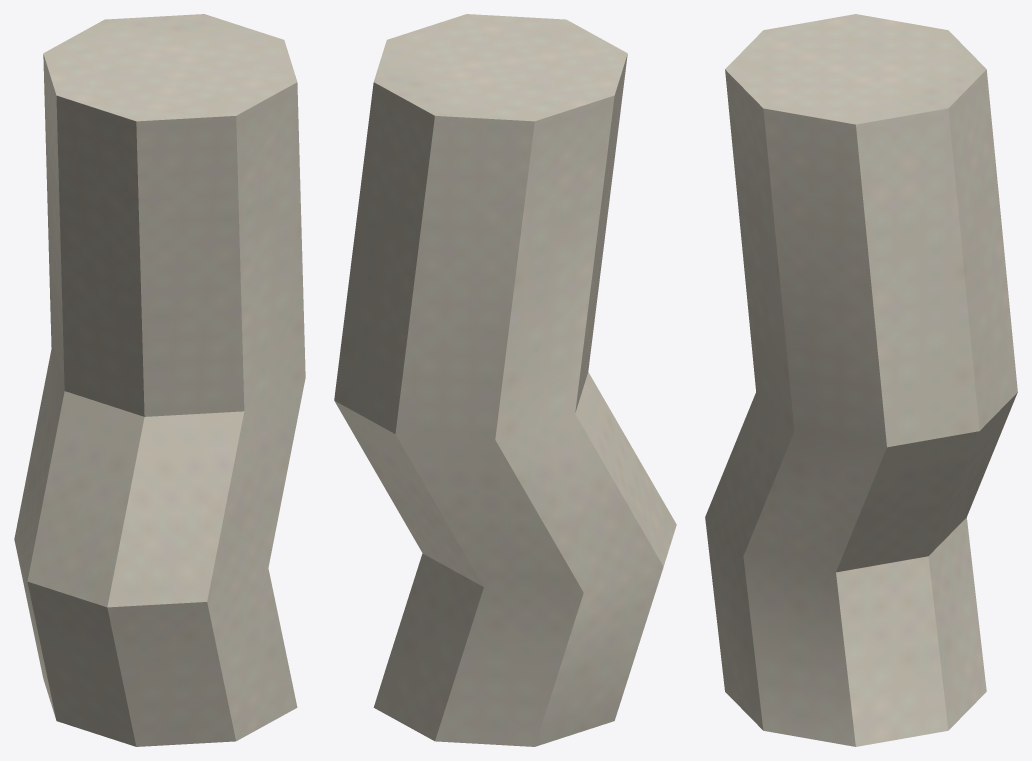
File: CigretteLit.fbx
The picture shows the model from 3 angles, left to right: view 1: azimuth 30°, elevation 25°; view 2: azimuth 150°, elevation 25°; view 3: azimuth 270°, elevation 25°; orthographic projection.
Visible parts, largest first — view 1: CigretteLit; view 2: CigretteLit; view 3: CigretteLit.
Part boxes in pixels (left/top/right/bottom): CigretteLit: left=14, top=14, right=305, bottom=746; CigretteLit: left=334, top=14, right=676, bottom=746; CigretteLit: left=705, top=14, right=1017, bottom=746.
Size of the model in its own units: 0.0229 by 0.0471 by 0.0215.
1 material, 1 textured.
